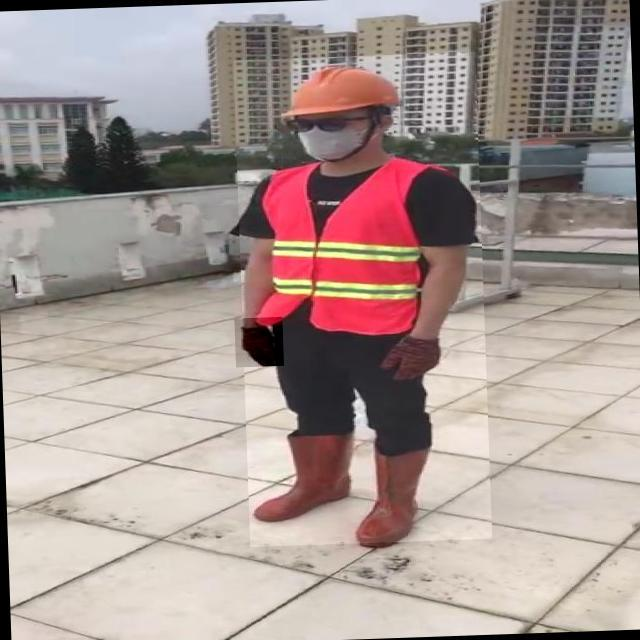Gloves: (380, 338, 445, 383), (234, 318, 284, 367)
Helmet: (271, 55, 403, 124)
Human: (233, 52, 492, 548)
Safety Boot: (253, 434, 356, 523), (350, 449, 431, 548)
Safety Vest: (253, 161, 424, 341)
